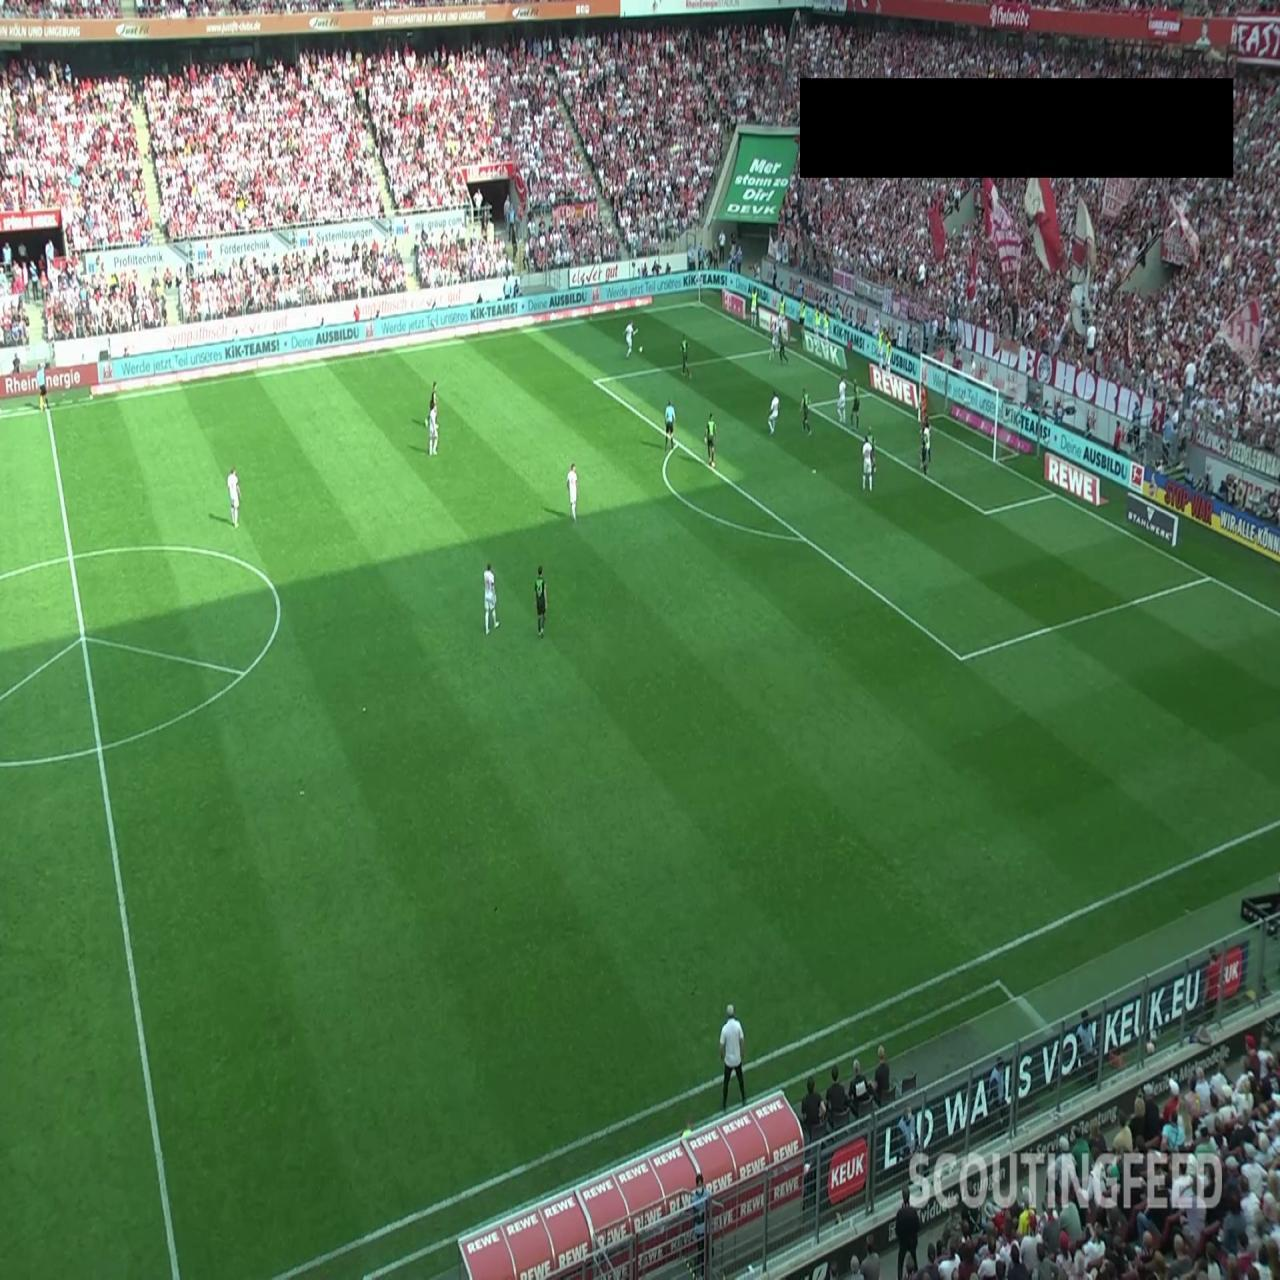Ball: (638, 346, 644, 354)
GoalKeeper: (918, 380, 928, 435)
Player: (484, 560, 499, 634), (226, 464, 242, 528), (534, 566, 548, 636), (424, 380, 440, 430), (704, 412, 718, 467), (566, 462, 578, 523), (864, 423, 878, 475), (862, 433, 874, 493), (427, 402, 440, 456), (850, 377, 861, 434), (767, 392, 780, 436), (623, 320, 638, 358), (800, 386, 811, 434), (777, 326, 790, 366), (922, 414, 932, 464), (680, 335, 691, 377), (768, 320, 779, 362), (920, 427, 928, 475), (838, 378, 846, 423)
Referee: (36, 362, 50, 412), (664, 397, 676, 452)
